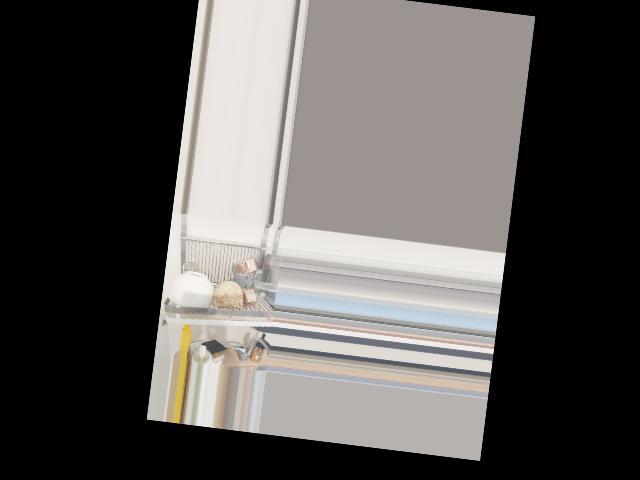onion: (212, 277, 244, 313)
